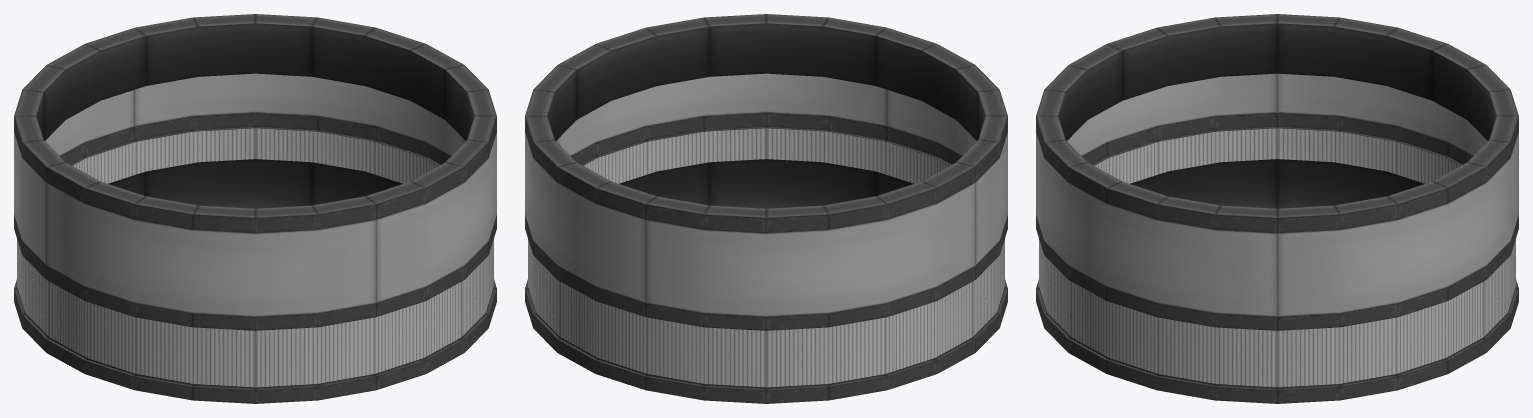
File: ShortTank.dae
3 views of the same model, side by side, from view 1: azimuth 30°, elevation 25°; view 2: azimuth 150°, elevation 25°; view 3: azimuth 270°, elevation 25° (orthographic).
Parts seen in each view (by area): view 1: UpperStageShortTank; view 2: UpperStageShortTank; view 3: UpperStageShortTank.
Boxes of the visible parts, x1=… form: UpperStageShortTank: x1=14, y1=14, x2=496, y2=403; UpperStageShortTank: x1=525, y1=14, x2=1007, y2=403; UpperStageShortTank: x1=1036, y1=14, x2=1518, y2=403.
Bounding box in the file's own units: 1.88 × 0.7963 × 1.88.
